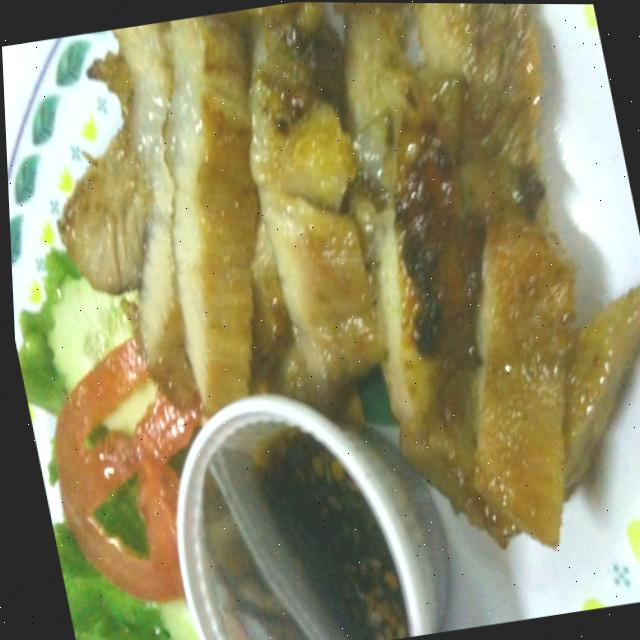猪肉菜式: (0, 0, 640, 627)
